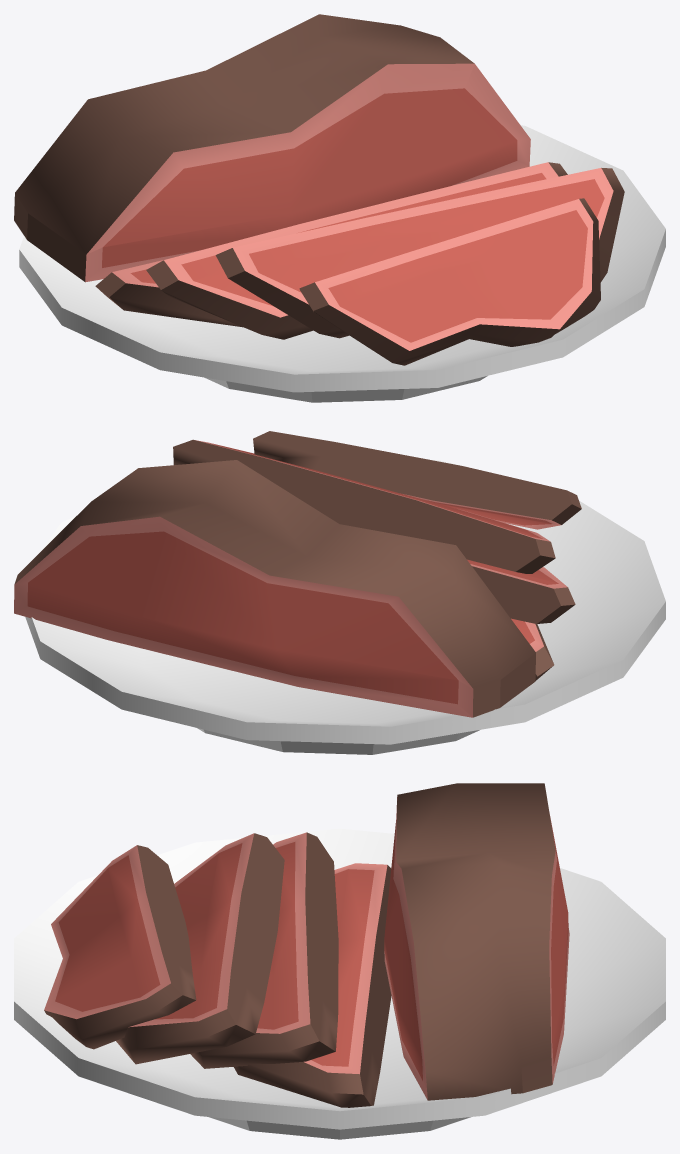
The model's file is Roast_beef.fbx.
3 views of the same model, one above another, from view 1: azimuth 30°, elevation 25°; view 2: azimuth 150°, elevation 25°; view 3: azimuth 270°, elevation 25° (orthographic). The views are drawn at different scales.
Parts seen in each view (by area): view 1: Roast_beef; view 2: Roast_beef; view 3: Roast_beef.
Boxes of the visible parts, x1,y1,x2,y2 form: Roast_beef: (14, 14, 665, 402); Roast_beef: (14, 431, 665, 754); Roast_beef: (14, 783, 665, 1139).
Bounding box in the file's own units: 59.65 × 21.73 × 58.15.
